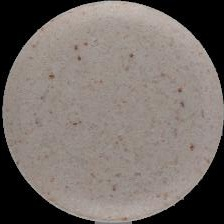0781-5234: (0, 0, 224, 224)
